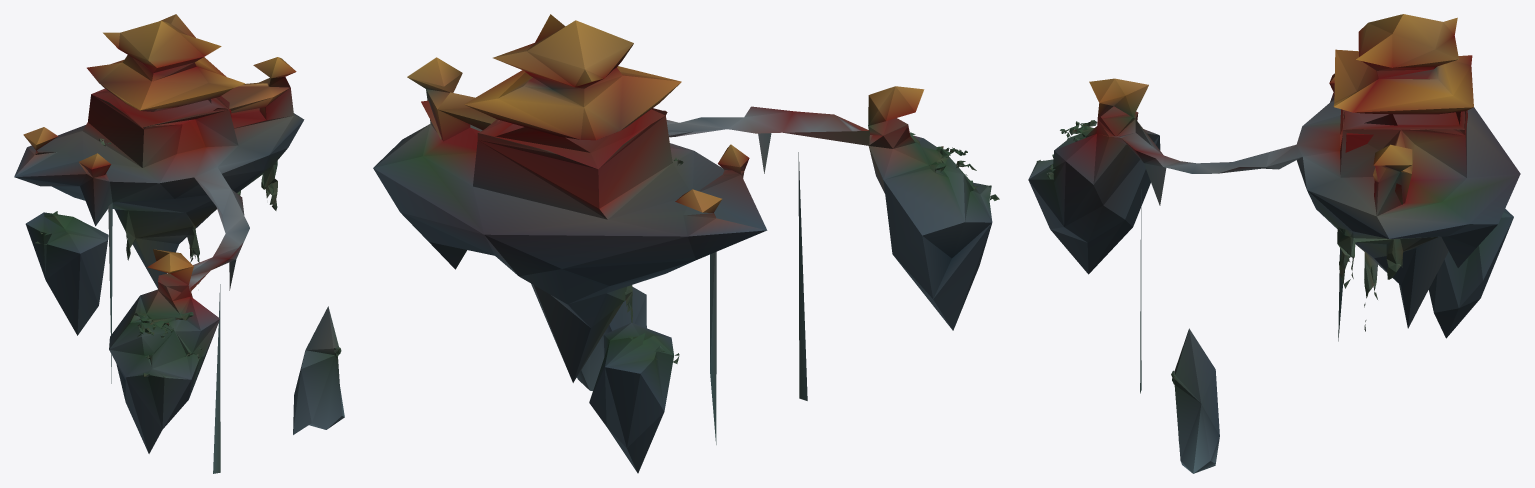
The model's file is sky_palace.vc2.glb.
The picture shows the model from 3 angles, left to right: view 1: azimuth 30°, elevation 25°; view 2: azimuth 150°, elevation 25°; view 3: azimuth 270°, elevation 25°; orthographic projection. The views are drawn at different scales.
Visible parts, largest first — view 1: sky_palace; view 2: sky_palace; view 3: sky_palace.
Part boxes in pixels (x1,y1,x2,y2): sky_palace: (14, 14, 344, 473); sky_palace: (373, 14, 999, 473); sky_palace: (1028, 14, 1520, 473).
Size of the model in its own units: 1.59 by 1.74 by 1.88.
